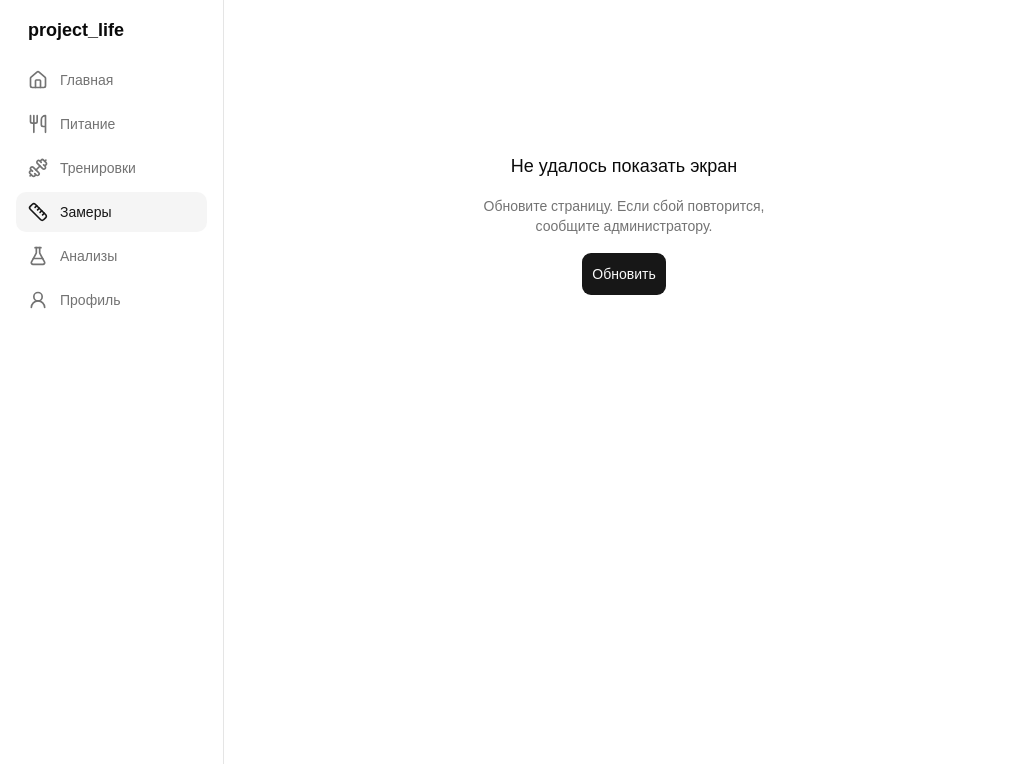
Test: экран сбоя › разделы остаются на месте: с экрана сбоя можно уйти в другой раздел
Click the link "Профиль".
click(74, 300)  # box 28,290 -> 120,310
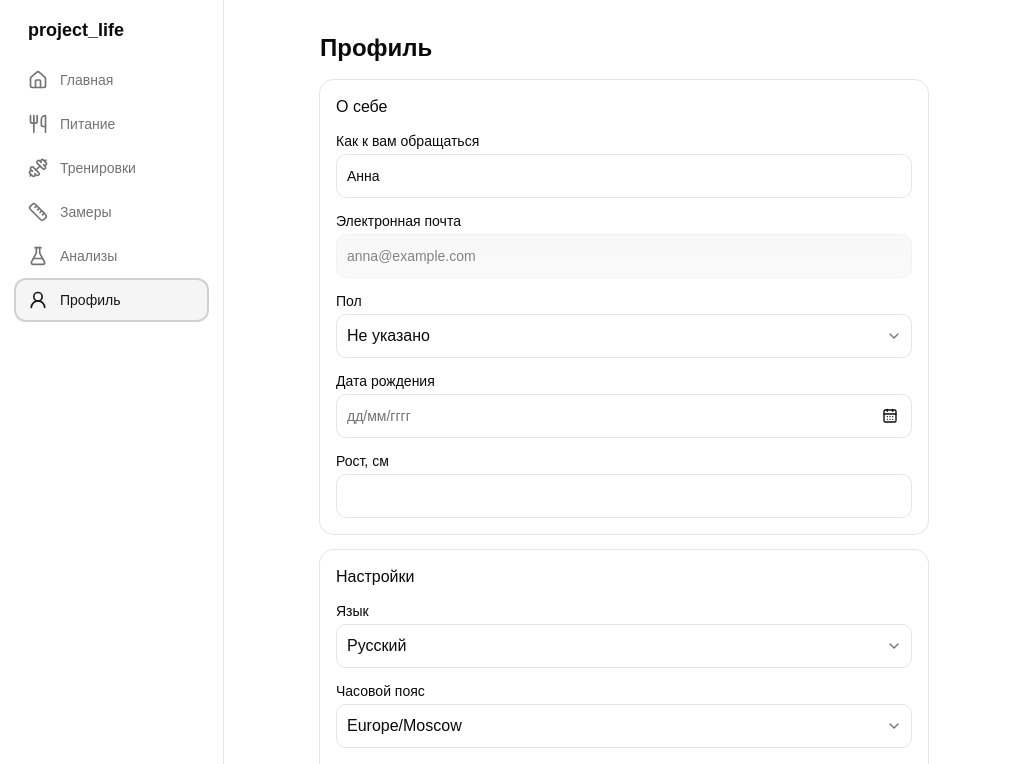
Expected: the heading "Профиль" is shown, 320,34 -> 432,61
Expected: the heading "Не удалось показать экран" is gone
